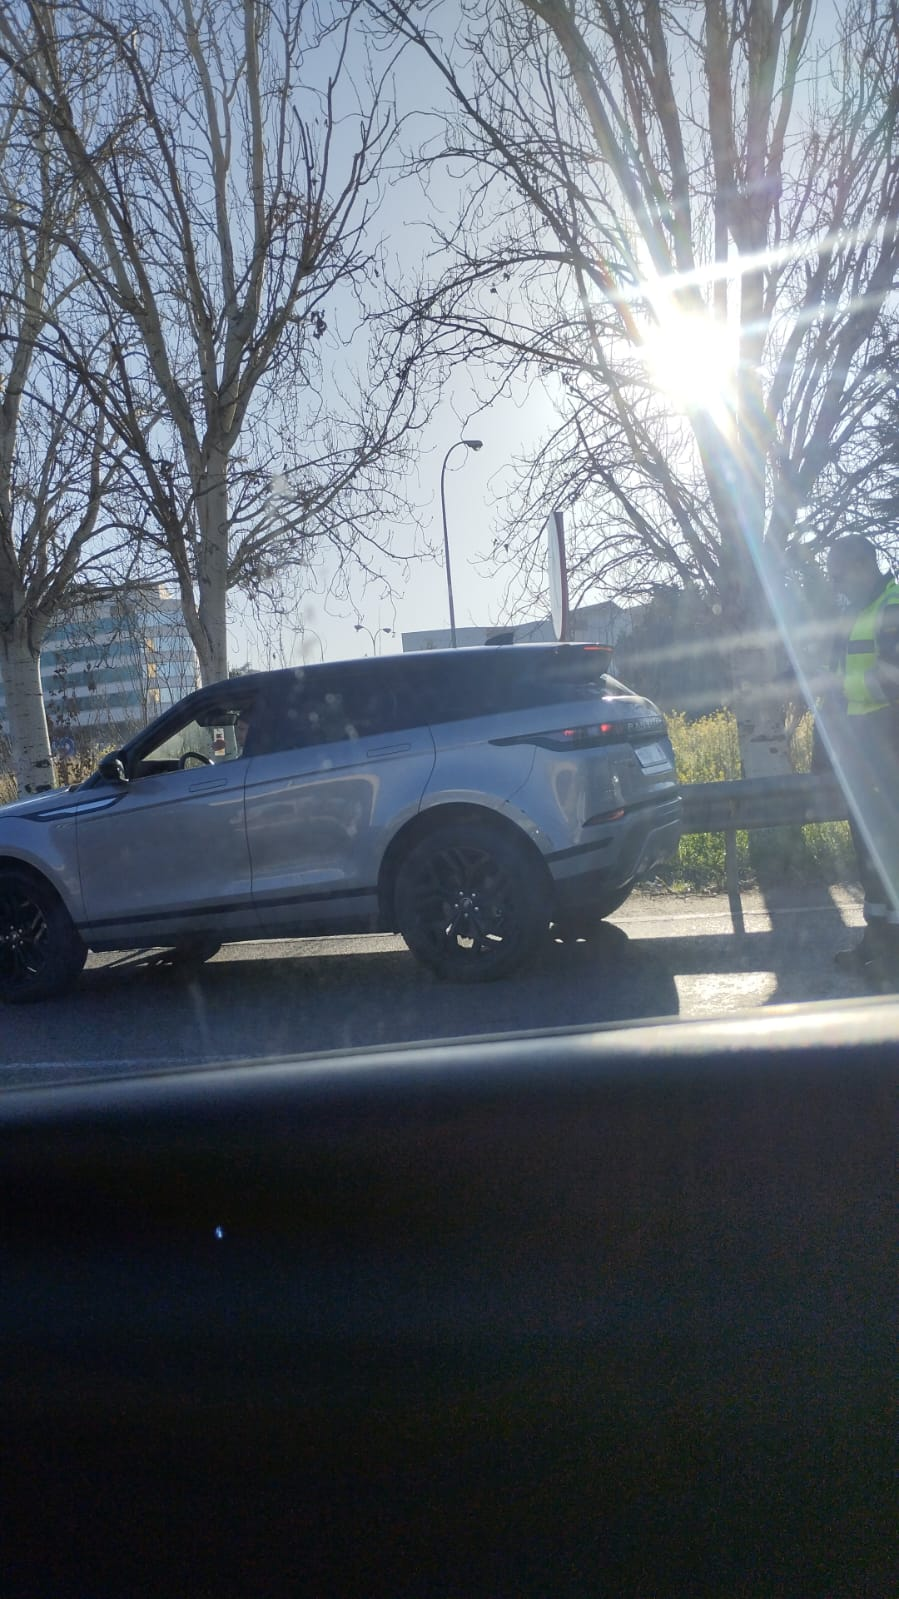car: (2, 650, 692, 951)
